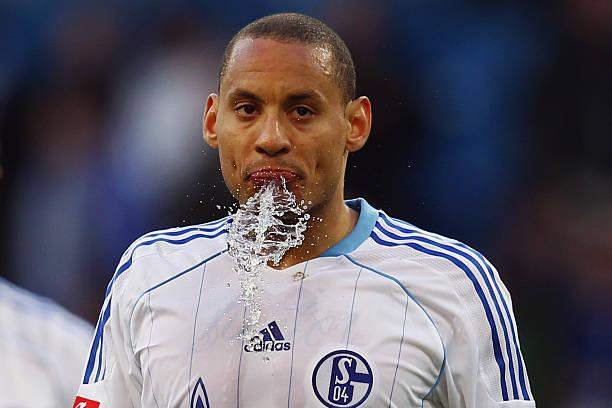Spitting: (173, 0, 397, 235)
